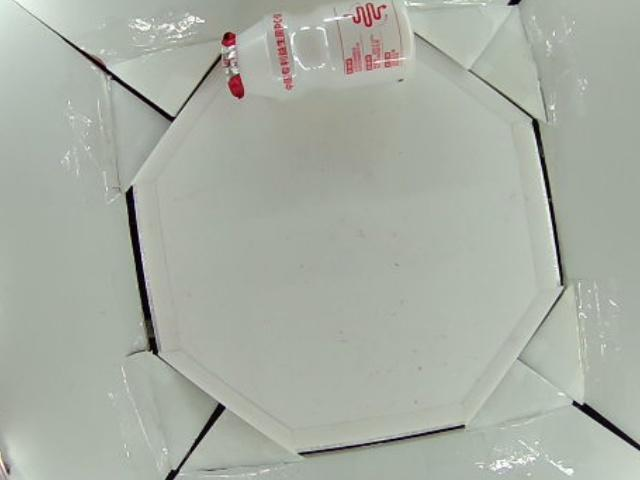Bottle: (223, 1, 416, 106)
